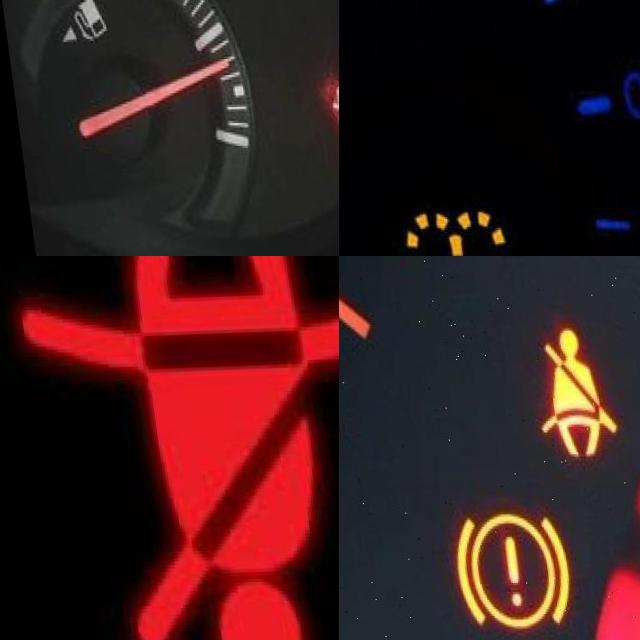Seat Belt: (5, 256, 339, 640), (524, 331, 617, 462), (317, 83, 339, 142)
Washer Fluid: (370, 208, 537, 256)
